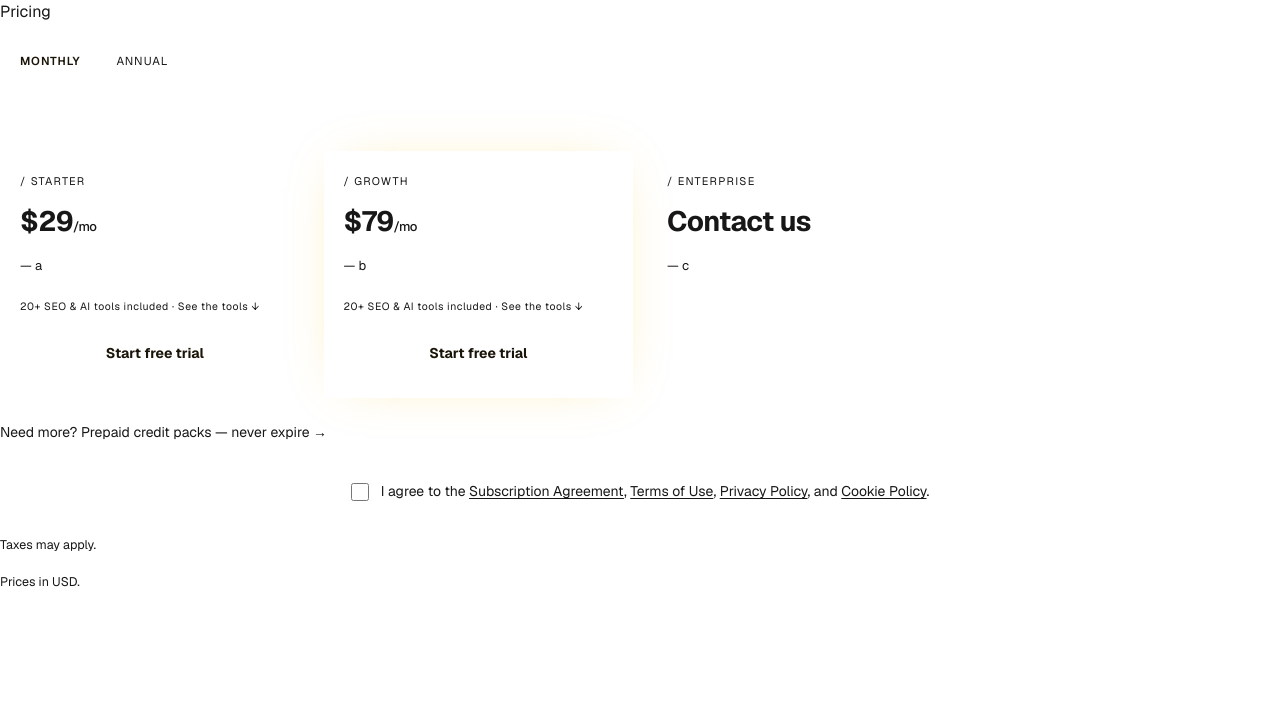
it: the two checkboxes are one value › unchecks both when either is cleared
Click the button "Start free trial" below "29".
click(155, 354)  # box 20,331 -> 290,376
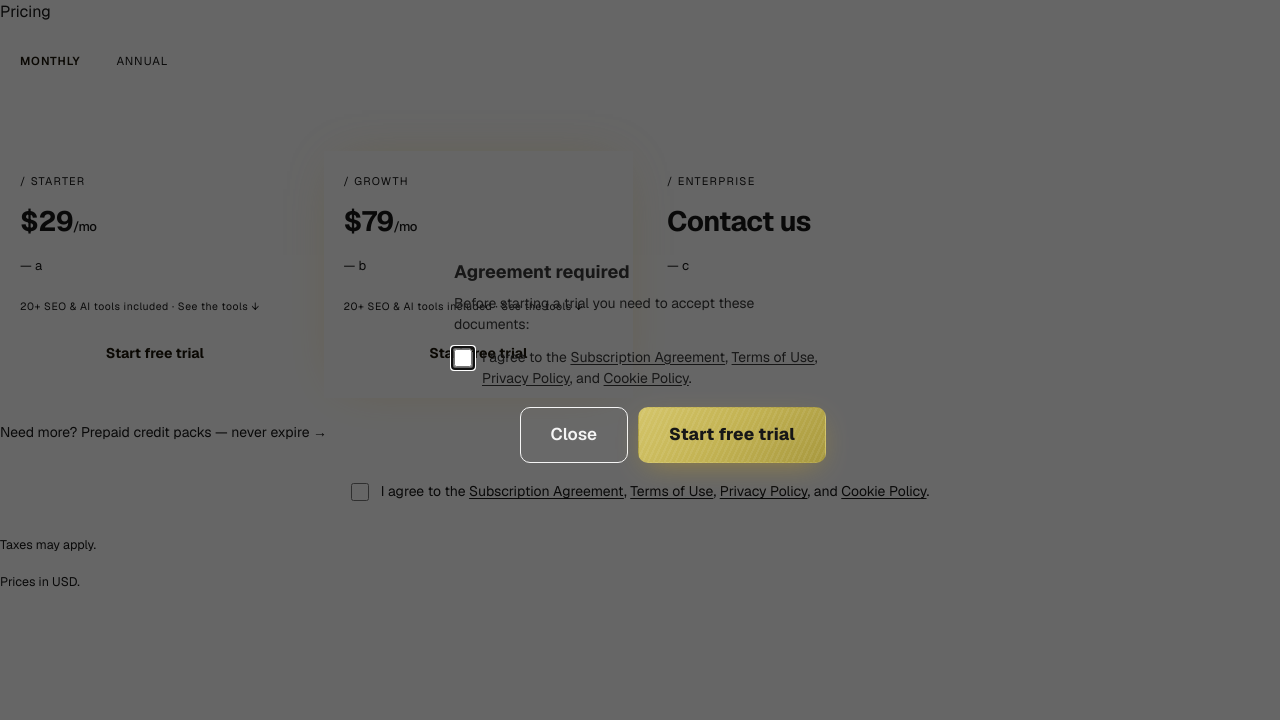
Click the checkbox.
click(463, 358)  # box 454,348 -> 472,366
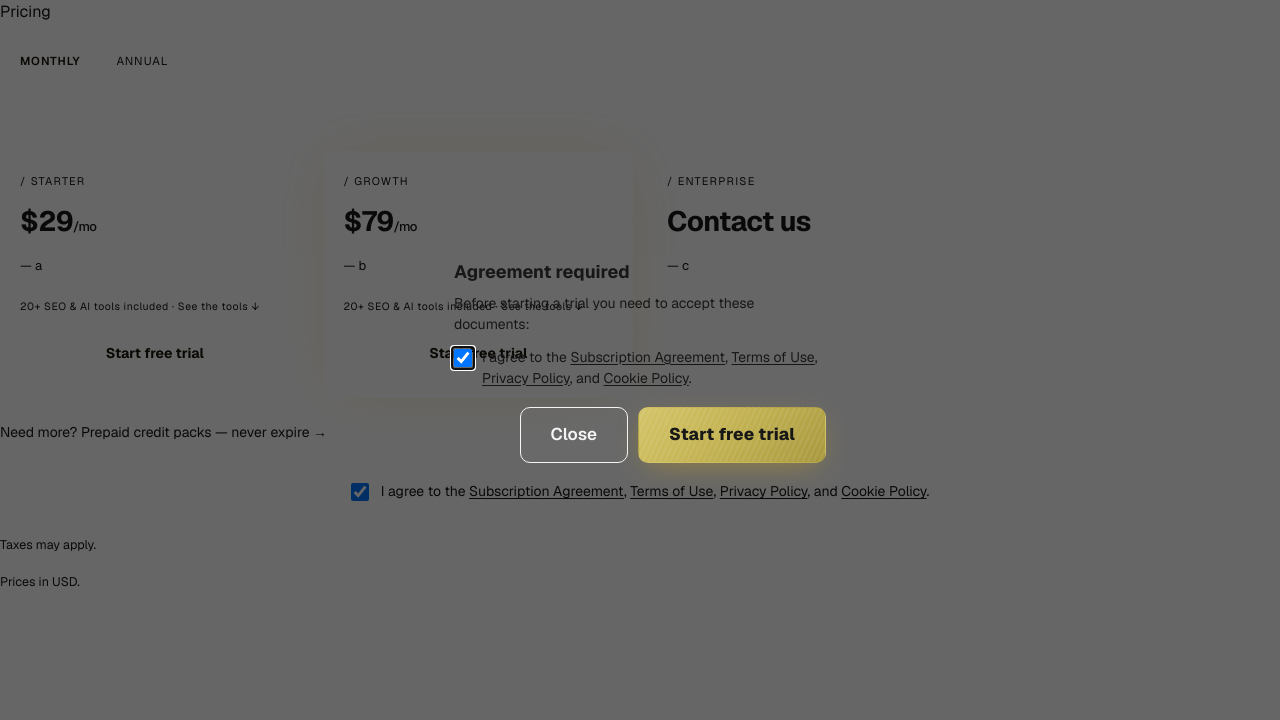
Click the checkbox.
click(463, 358)  # box 454,348 -> 472,366
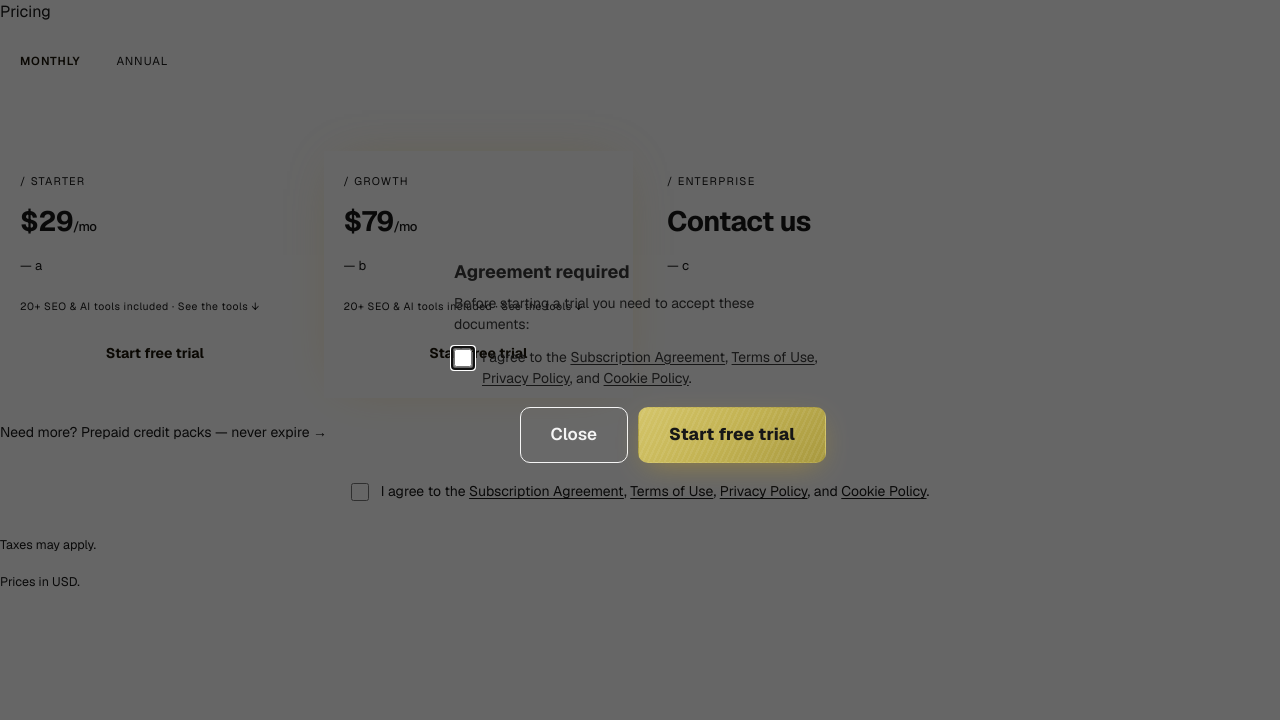
Check: the checkbox is not checked, box 454,348 -> 472,366
Check: the 2nd checkbox is not checked, box 351,482 -> 369,500
